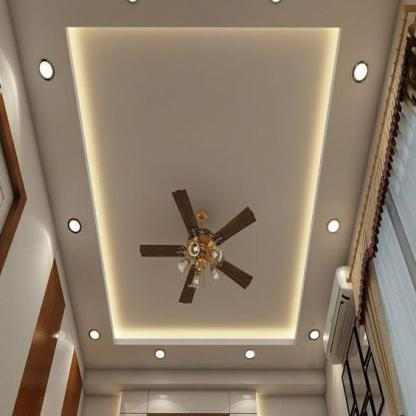Gypsum Board: (0, 1, 416, 391)
